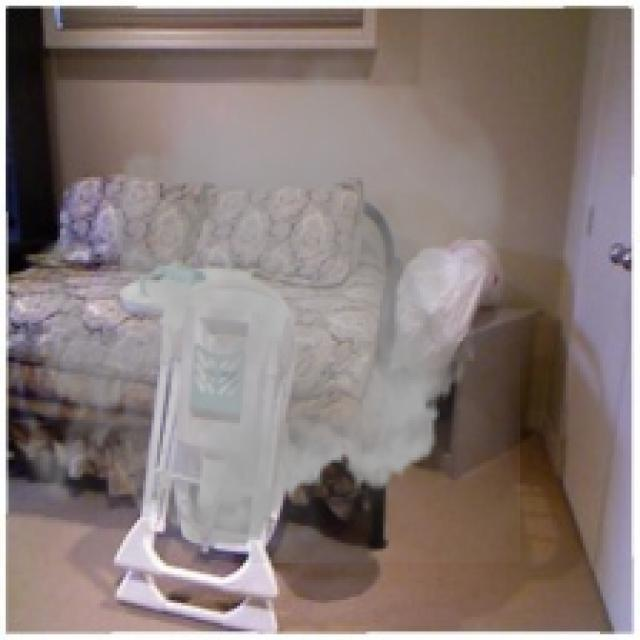Smoke: (3, 34, 520, 563)
